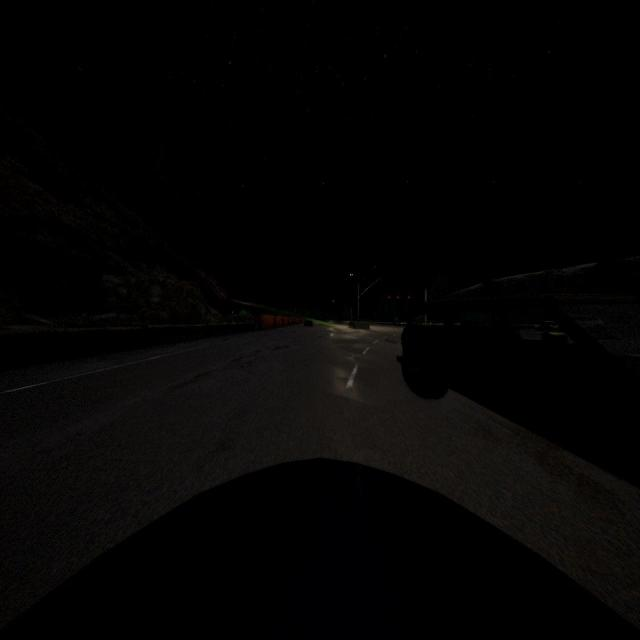Vehicle: (0, 456, 640, 640), (397, 255, 640, 471), (303, 320, 313, 328)
traffic_light: (388, 296, 390, 300), (397, 296, 399, 299), (408, 296, 410, 299)
